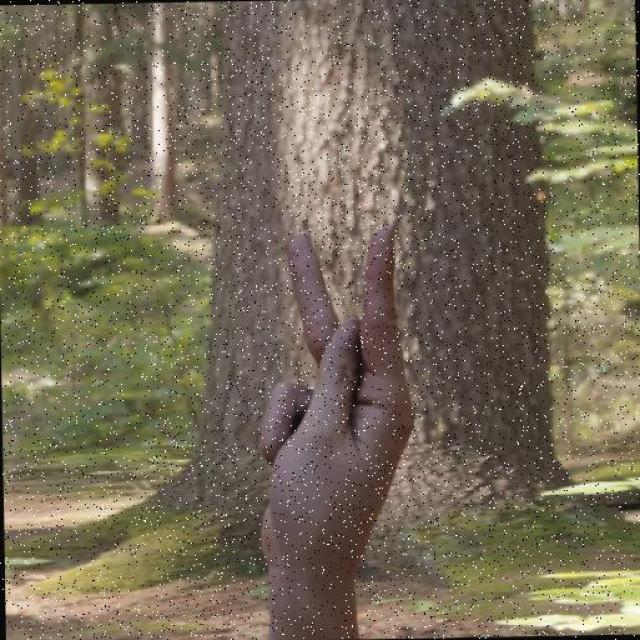K: (246, 220, 421, 576)
